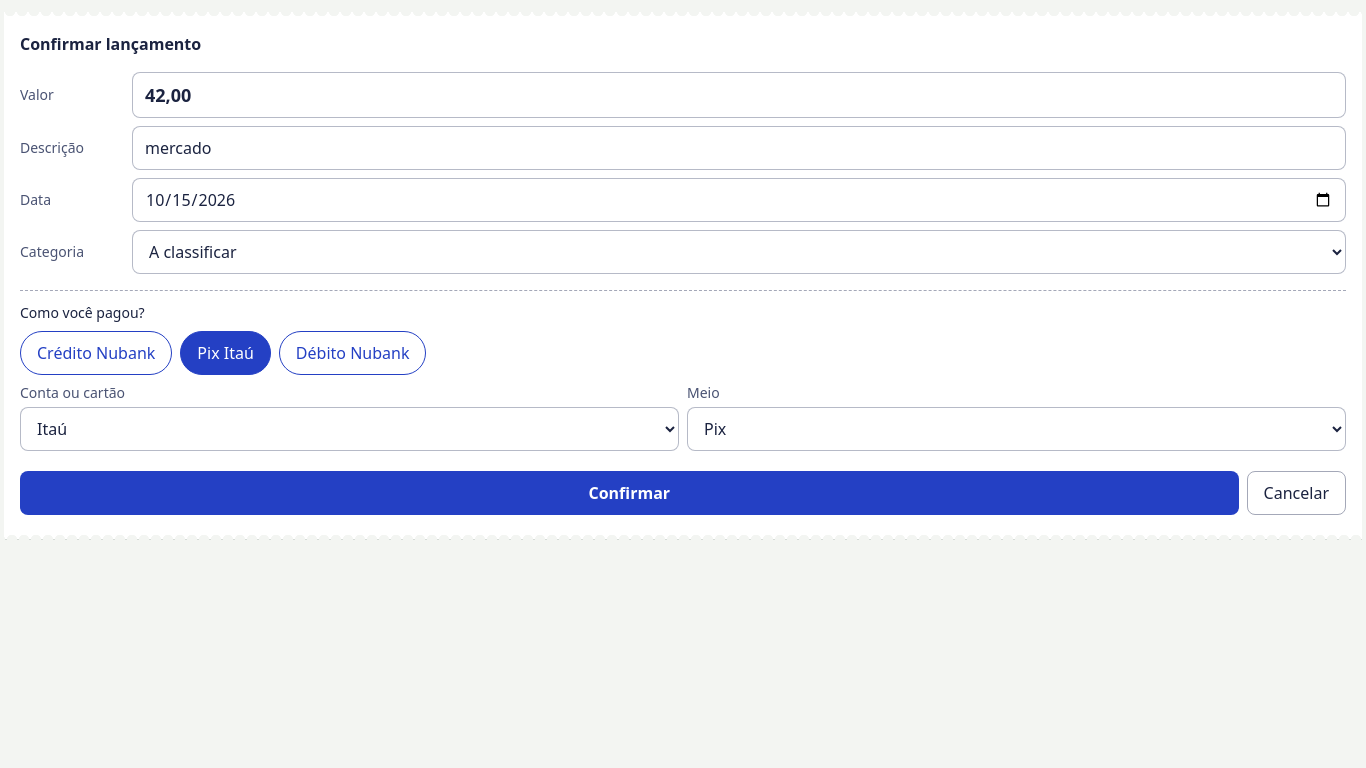
Test case: typing into a failed item keeps focus and every keystroke
Click the button "Confirmar" at point(629, 493), box x1=20 y1=471 x2=1239 y2=515
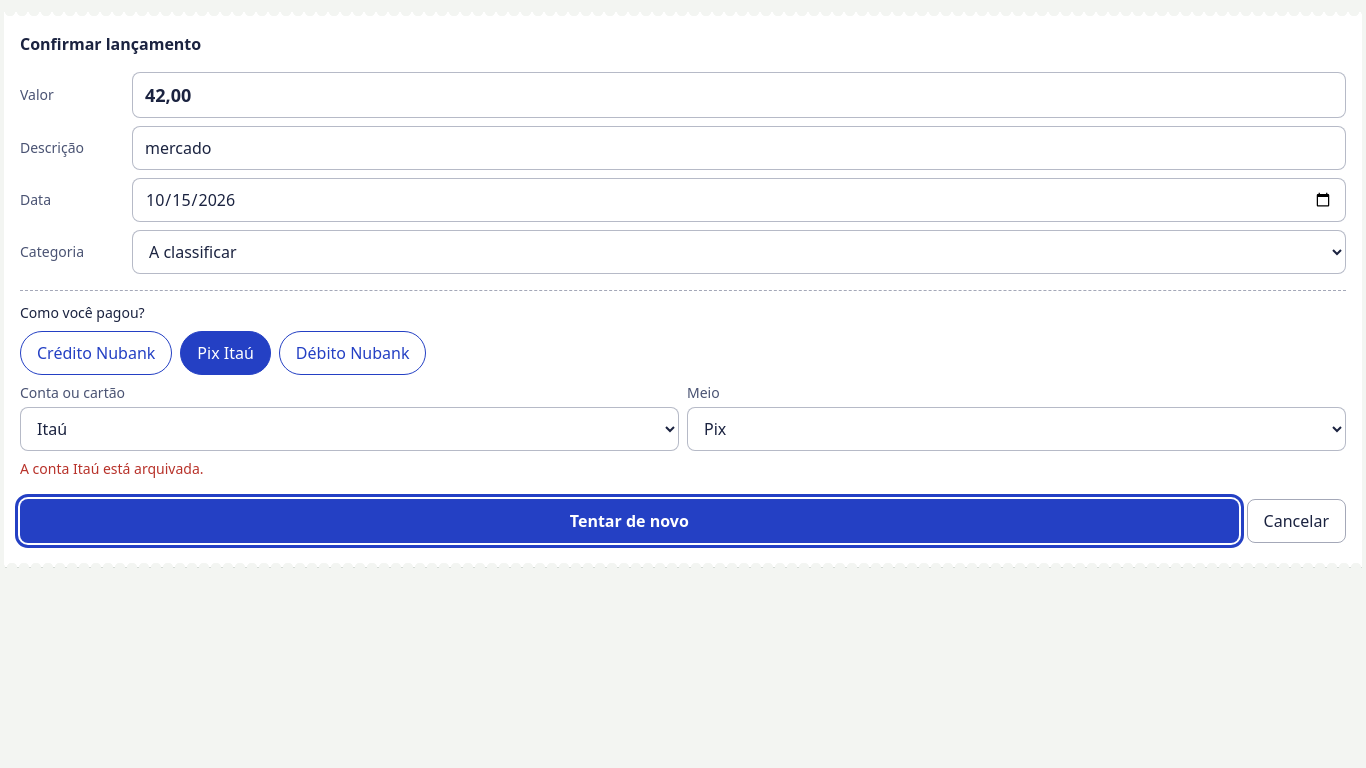
Expected: the message "A conta Itaú está arquivada." is shown, x1=20 y1=459 x2=204 y2=478
Type "xy" into the field labelled "Descrição" at point(739, 148), box x1=132 y1=126 x2=1346 y2=170
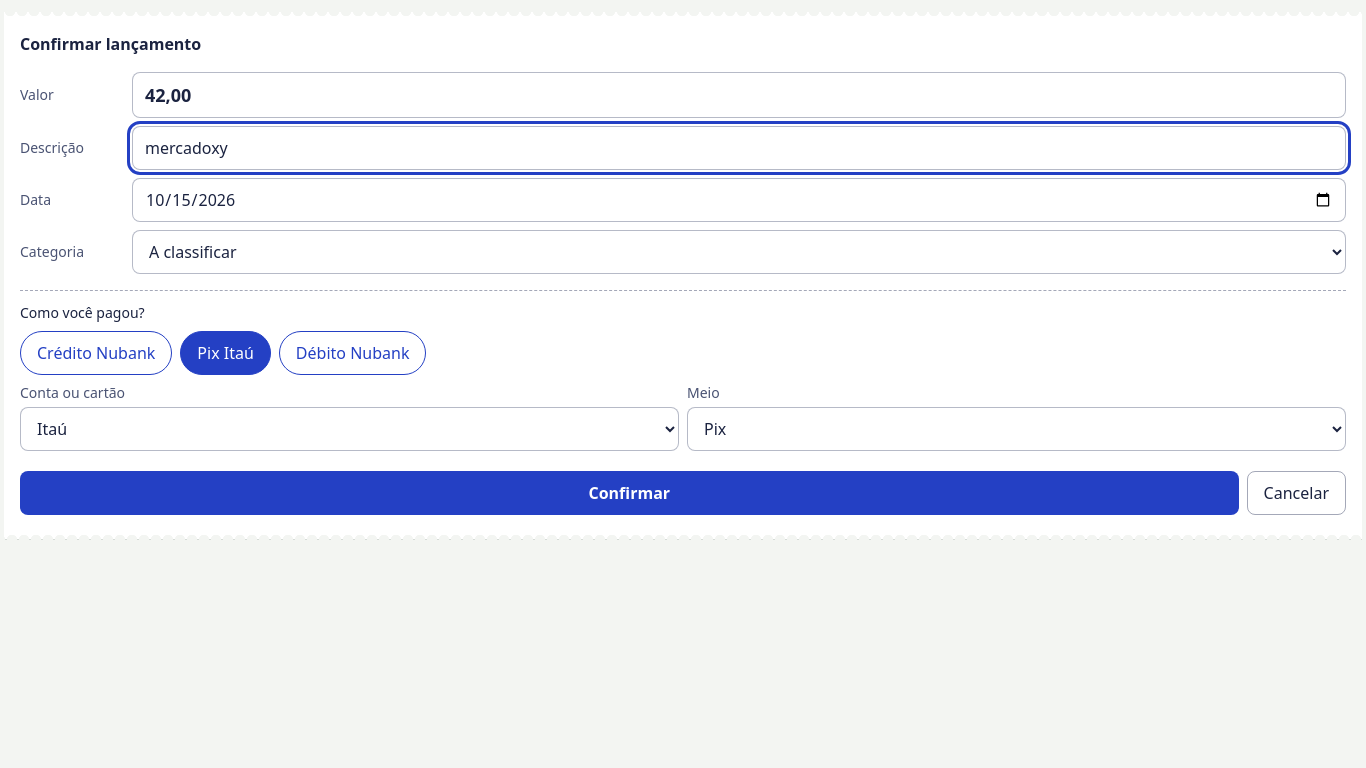
Expected: the field labelled "Descrição" holds "mercadoxy", x1=132 y1=126 x2=1346 y2=170
